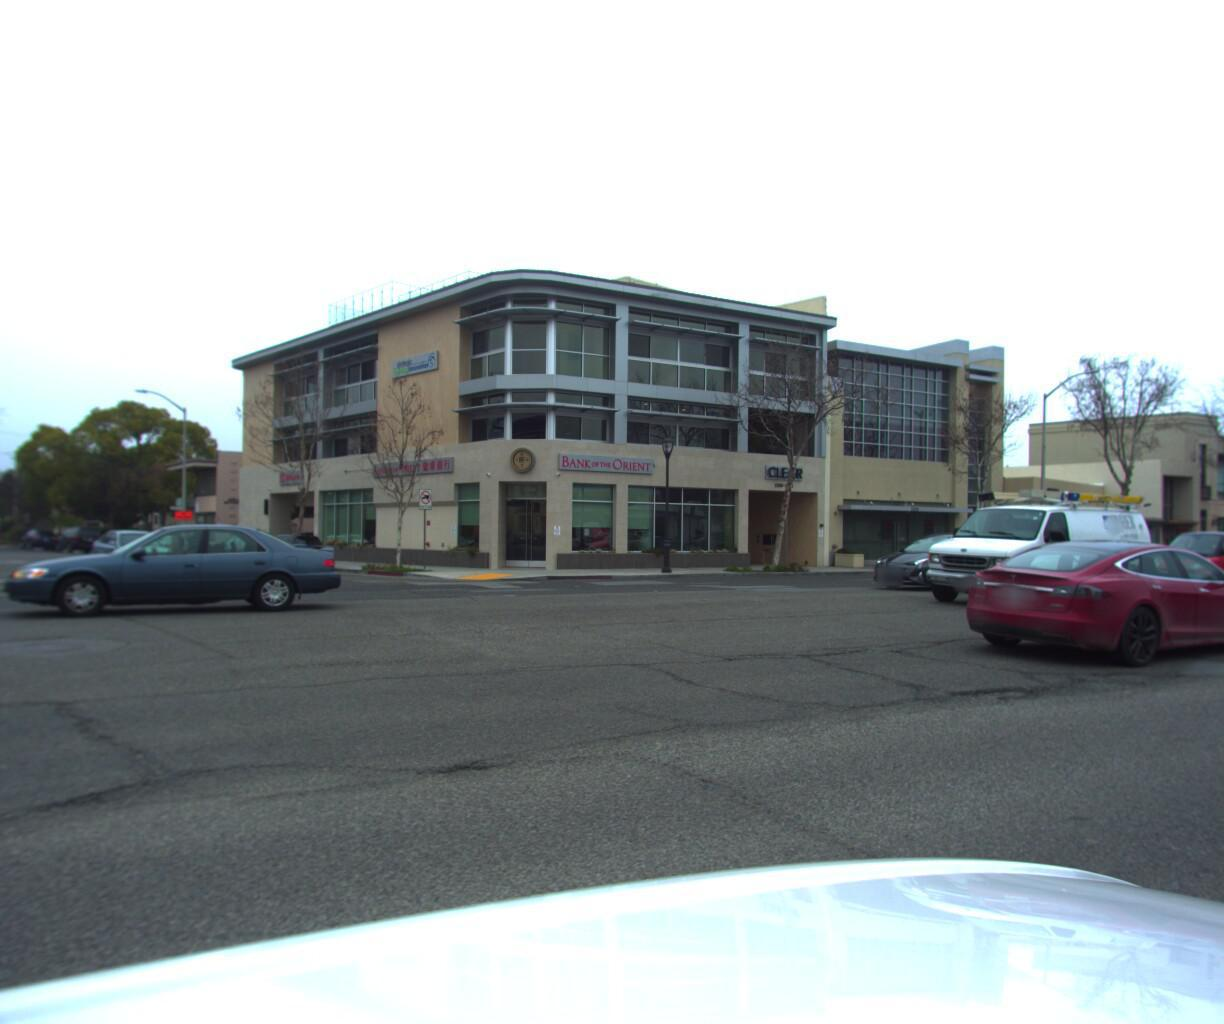car: (931, 527, 1224, 670), (0, 515, 339, 618), (914, 478, 1165, 604), (863, 531, 1033, 591), (1142, 519, 1224, 585), (83, 527, 183, 569), (247, 528, 336, 571), (59, 523, 111, 554), (22, 525, 66, 551)
